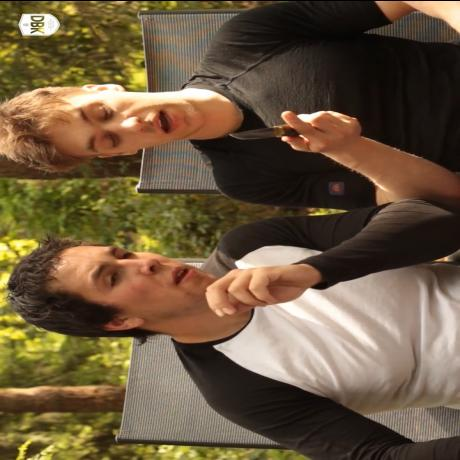1: (8, 200, 460, 460), (2, 2, 460, 211)
weapon: (229, 123, 301, 140)
